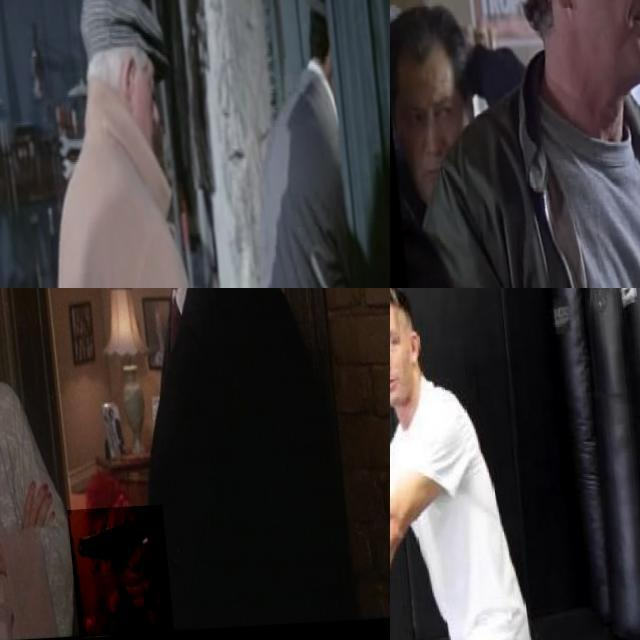-: (390, 612, 435, 640)
gun-knife-thesis - v11 Yolov5 augmented: (56, 508, 161, 640)
